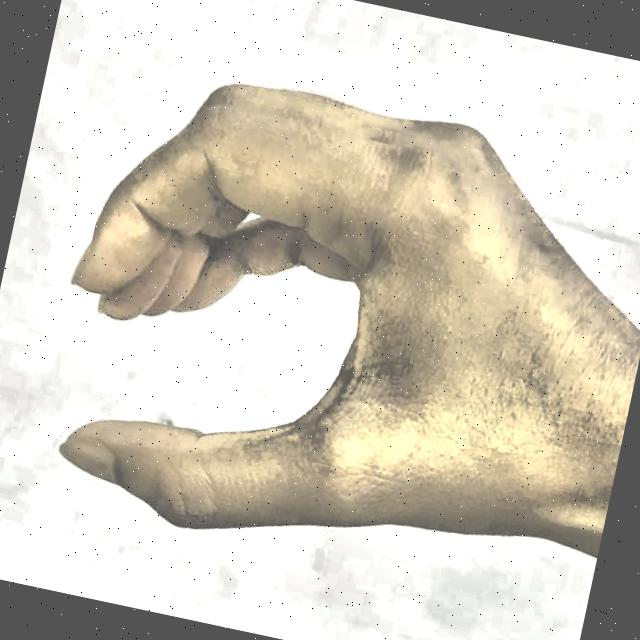Ka: (0, 7, 630, 640)
